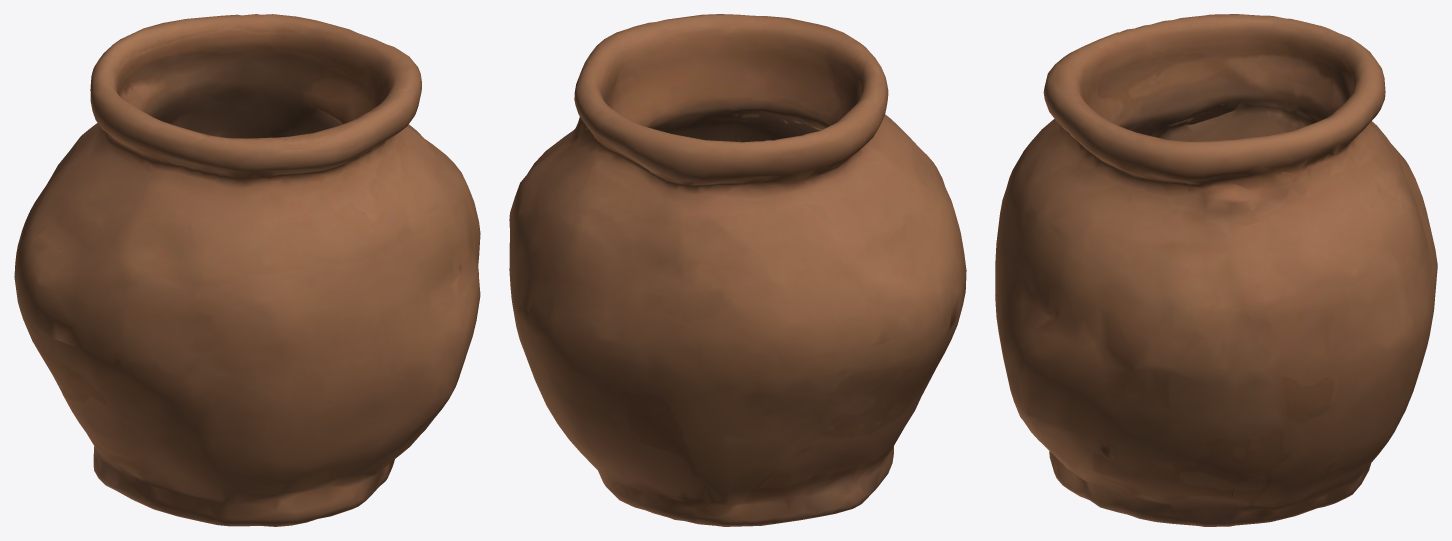
The model's file is PotWide.glb.
3 views of the same model, side by side, from view 1: azimuth 30°, elevation 25°; view 2: azimuth 150°, elevation 25°; view 3: azimuth 270°, elevation 25° (orthographic). The views are drawn at different scales.
Visible parts, largest first — view 1: PotWide; view 2: PotWide; view 3: PotWide.
Boxes of the visible parts, x1=… form: PotWide: x1=14, y1=14, x2=480, y2=526; PotWide: x1=509, y1=14, x2=966, y2=526; PotWide: x1=995, y1=14, x2=1437, y2=526.
Size of the model in its own units: 0.4894 by 0.444 by 0.4396.
Materials: 1 (1 with a texture image).
